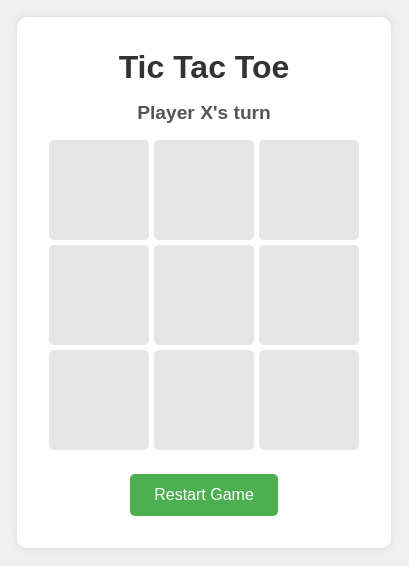
Test: Tic Tac Toe Game › clicking an empty cell marks it with X for the first move
Step 1. Click the element with test id "cell-0" → (99, 190), box [49,140,149,240]
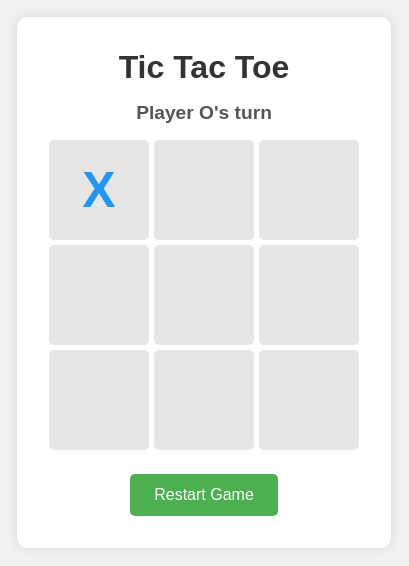
Result: the text with test id "cell-0" reads "X" at [82,162,116,218]
